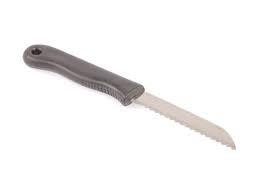Knife: (22, 43, 236, 150)
